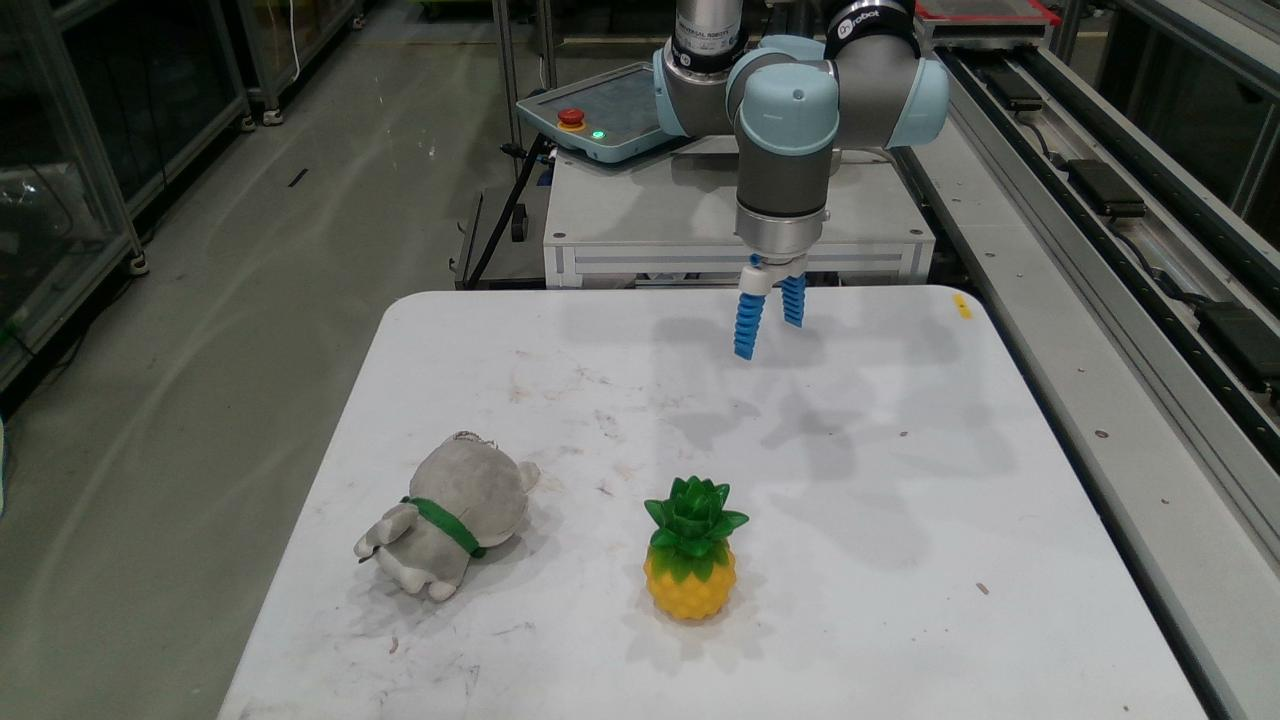UR5: (654, 0, 944, 292)
gripper_left: (734, 295, 764, 359)
gripper_right: (782, 273, 804, 323)
target: (356, 432, 536, 601), (648, 476, 746, 619)
